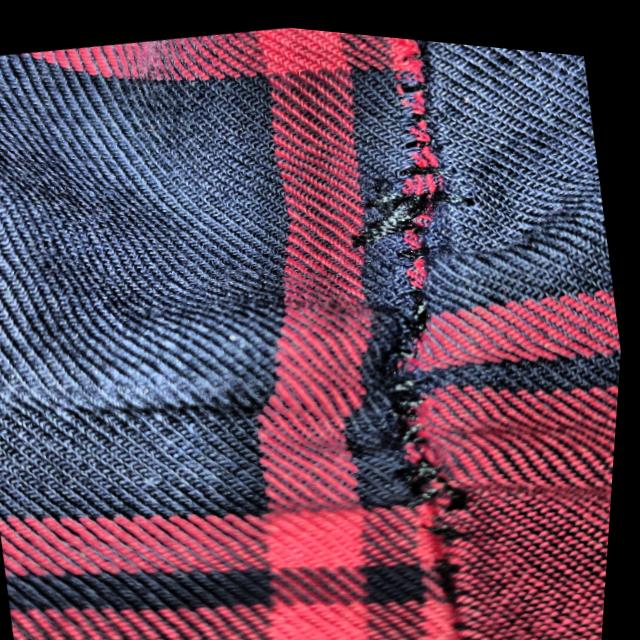Stitch: (312, 135, 541, 526)
